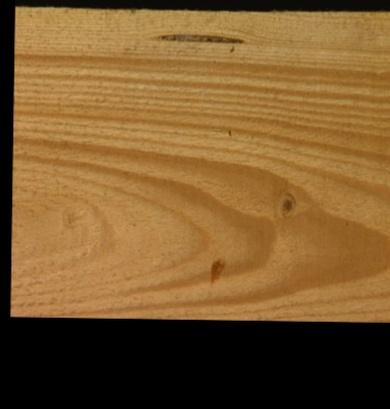sound_knot: (272, 187, 296, 219)
